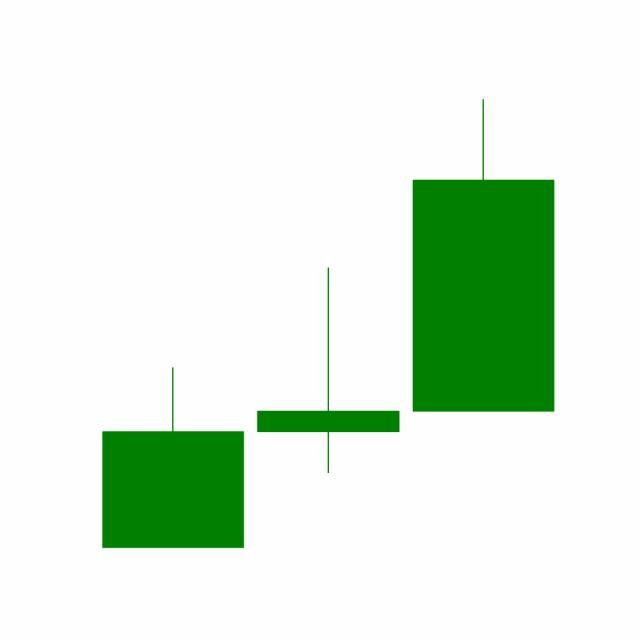Spinning Top: (250, 266, 407, 477)
